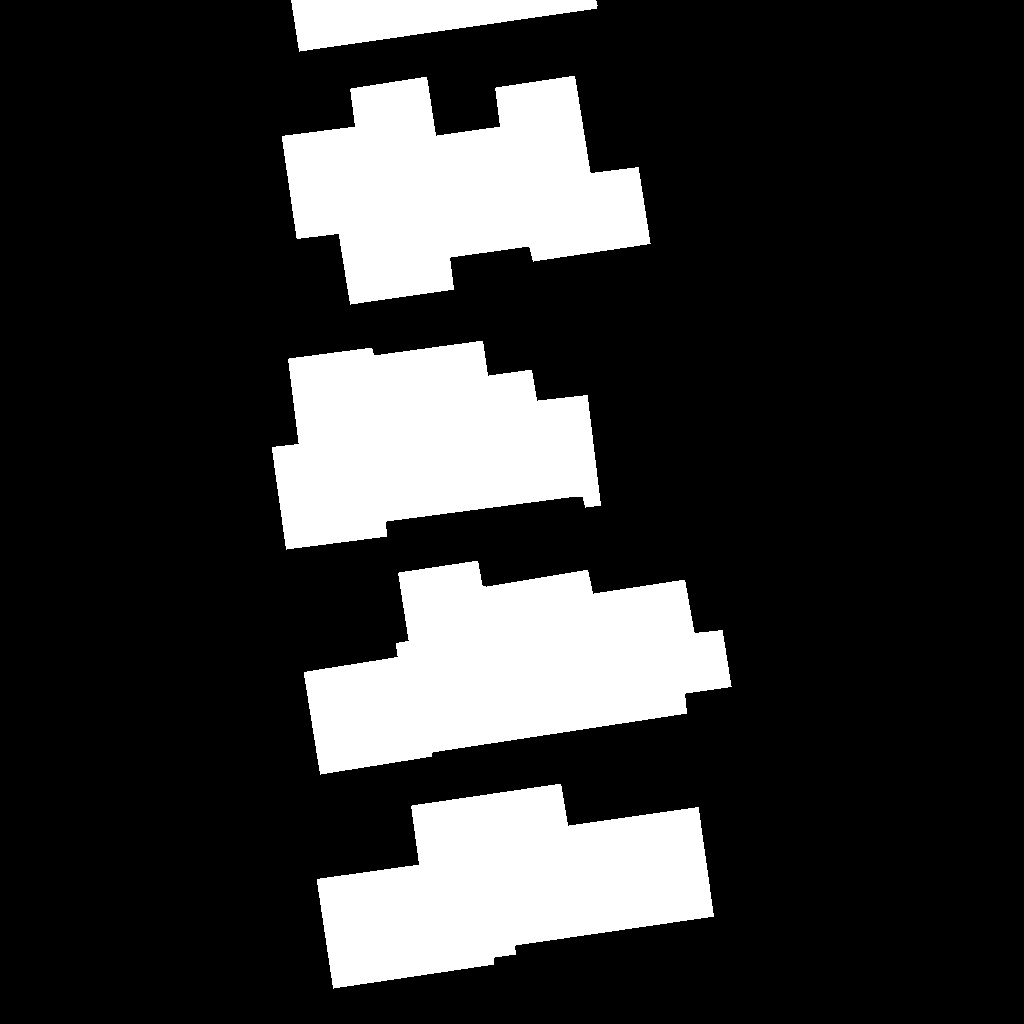building: (304, 561, 732, 775), (282, 76, 651, 305), (317, 784, 715, 989), (272, 341, 602, 550), (291, 0, 598, 52)
